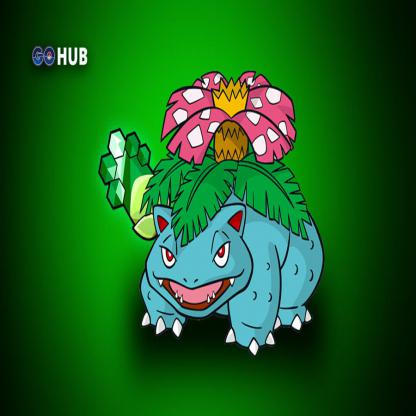Venusaur: (137, 58, 329, 357)
